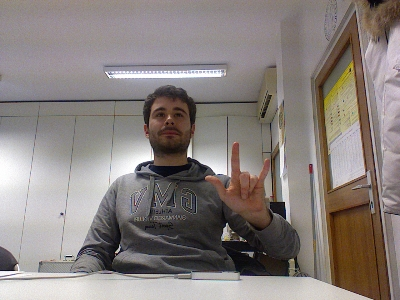我爱你: (203, 139, 272, 215)
